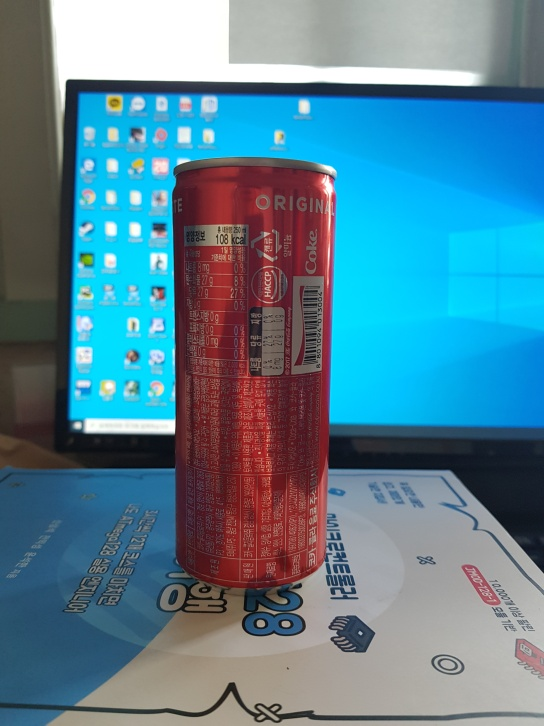Can: (169, 151, 338, 593)
